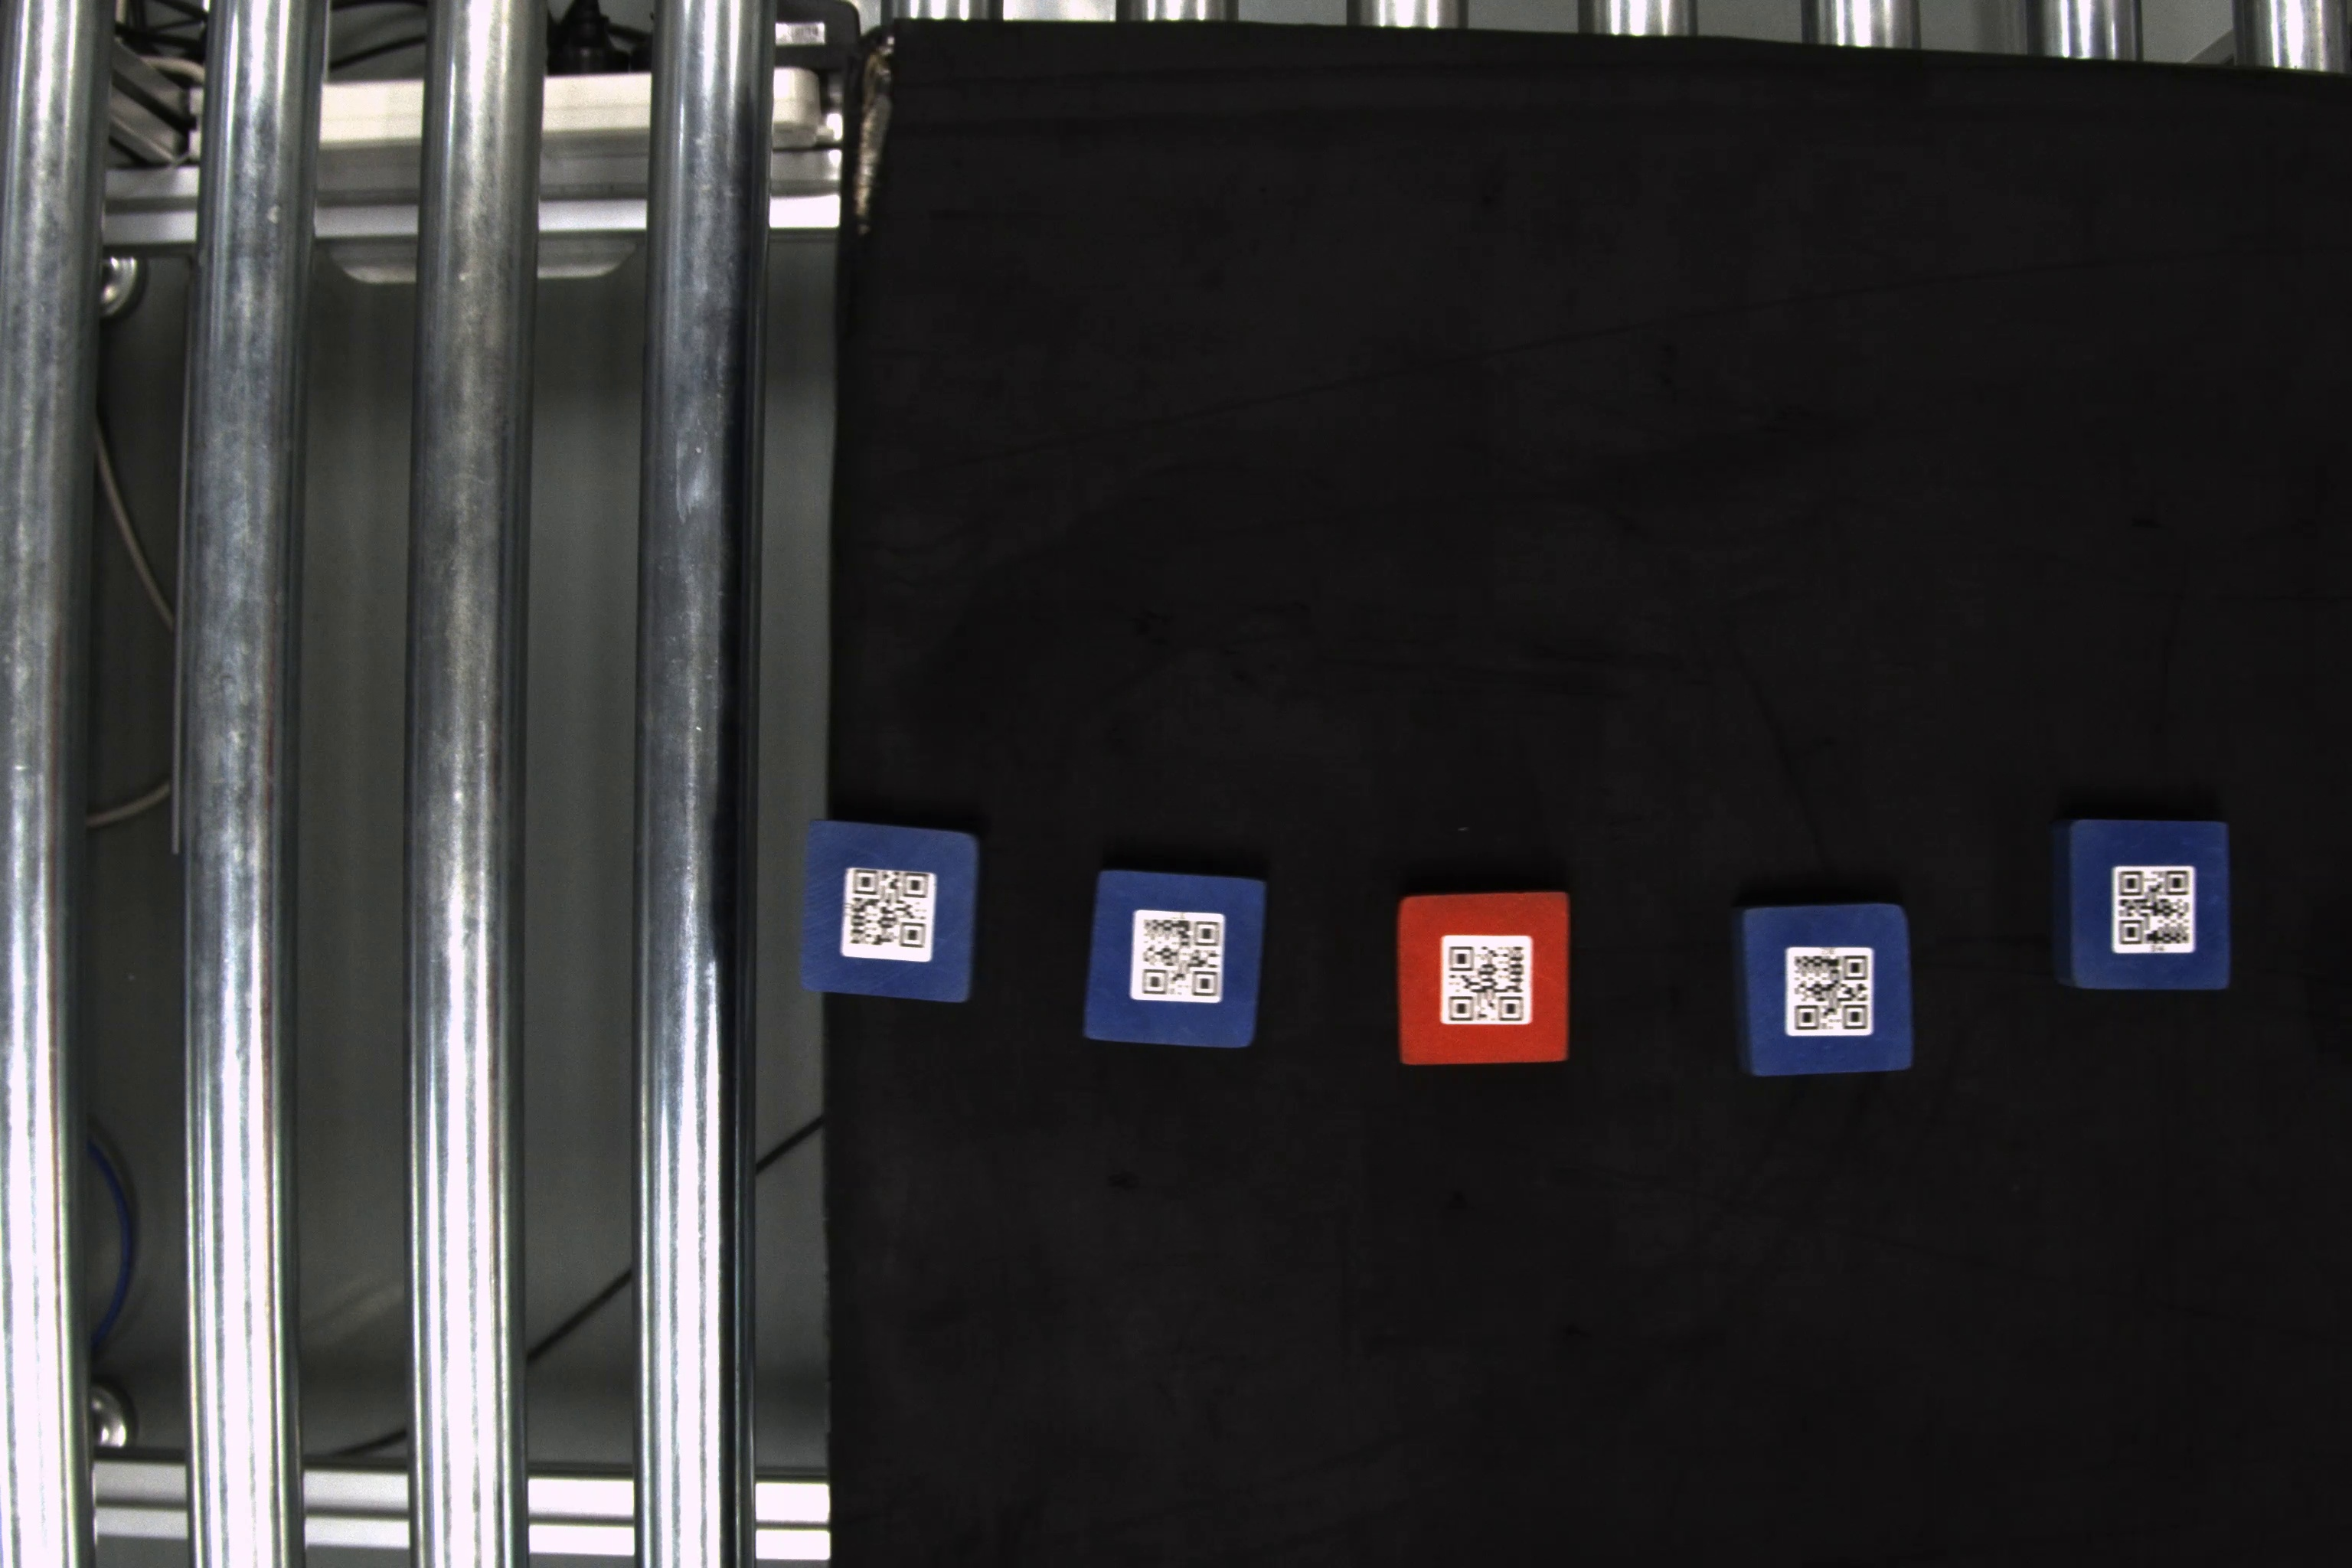wood: (800, 819, 983, 1008), (1085, 868, 1269, 1055), (1389, 887, 1580, 1066), (1732, 898, 1918, 1078), (2058, 815, 2238, 996)
